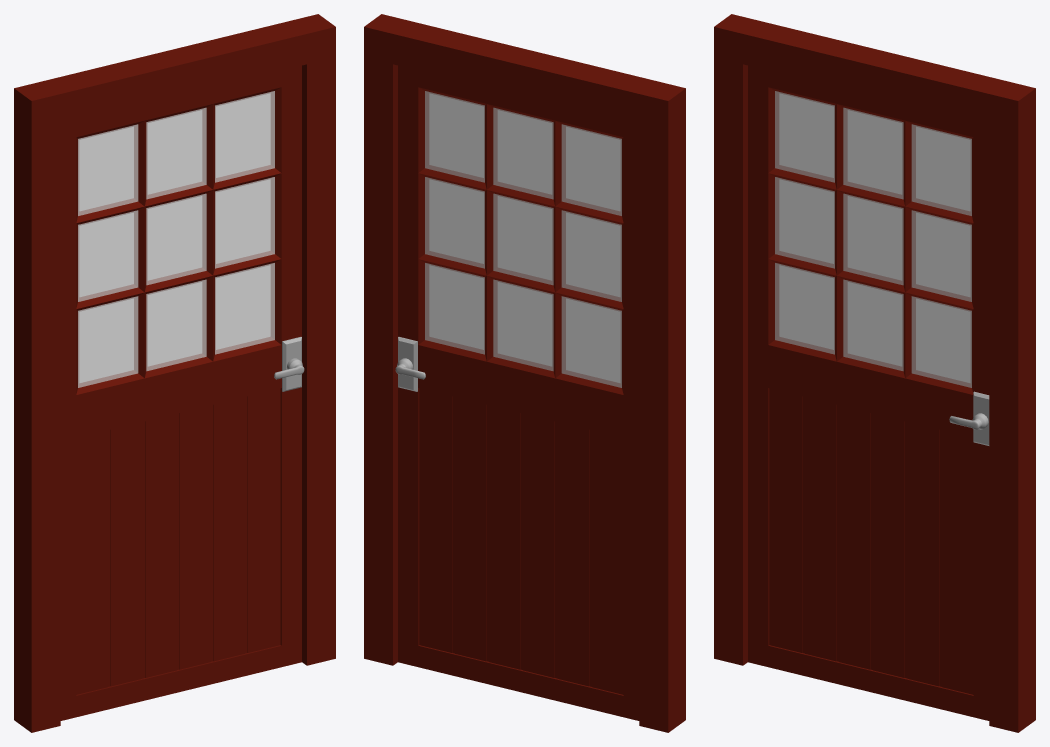
The model's file is Pintu.fbx.
3 views of the same model, side by side, from view 1: azimuth 30°, elevation 25°; view 2: azimuth 150°, elevation 25°; view 3: azimuth 330°, elevation 25° (orthographic).
Visible parts, largest first — view 1: Pintu.002, PintuFrame.002; view 2: Pintu.002, PintuFrame.002; view 3: Pintu.002, PintuFrame.002.
Boxes of the visible parts, left/top/right/bottom form: Pintu.002: left=60, top=65, right=301, bottom=720; PintuFrame.002: left=14, top=14, right=335, bottom=732; Pintu.002: left=398, top=65, right=639, bottom=720; PintuFrame.002: left=364, top=14, right=685, bottom=732; Pintu.002: left=748, top=65, right=989, bottom=720; PintuFrame.002: left=714, top=14, right=1035, bottom=732.
Bounding box in the file's own units: 111 × 221 × 16.67.
